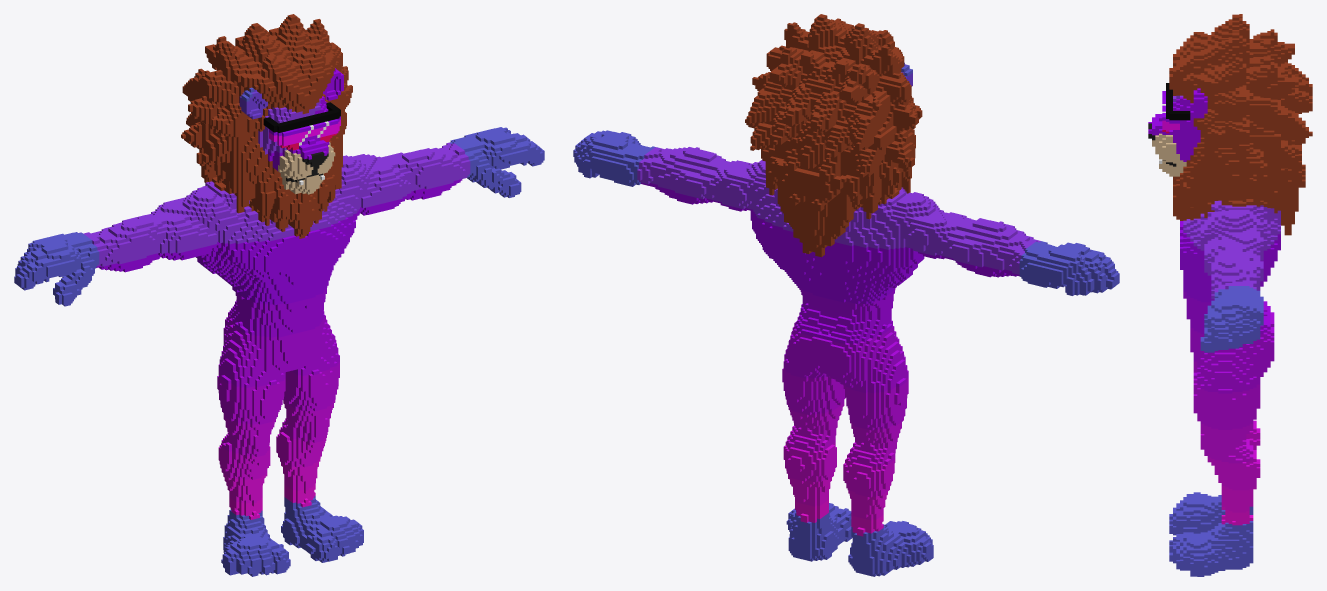
3 views of the same model, side by side, from view 1: azimuth 30°, elevation 25°; view 2: azimuth 150°, elevation 25°; view 3: azimuth 270°, elevation 25° (orthographic). The views are drawn at different scales.
Parts seen in each view (by area): view 1: standard.001; view 2: standard.001; view 3: standard.001.
Boxes of the visible parts, x1,y1,x2,y2 form: standard.001: (14, 14, 544, 576); standard.001: (573, 14, 1119, 576); standard.001: (1148, 14, 1312, 576).
Size of the model in its own units: 17.2 by 16.5 by 4.7.
4 materials, 4 textured.
